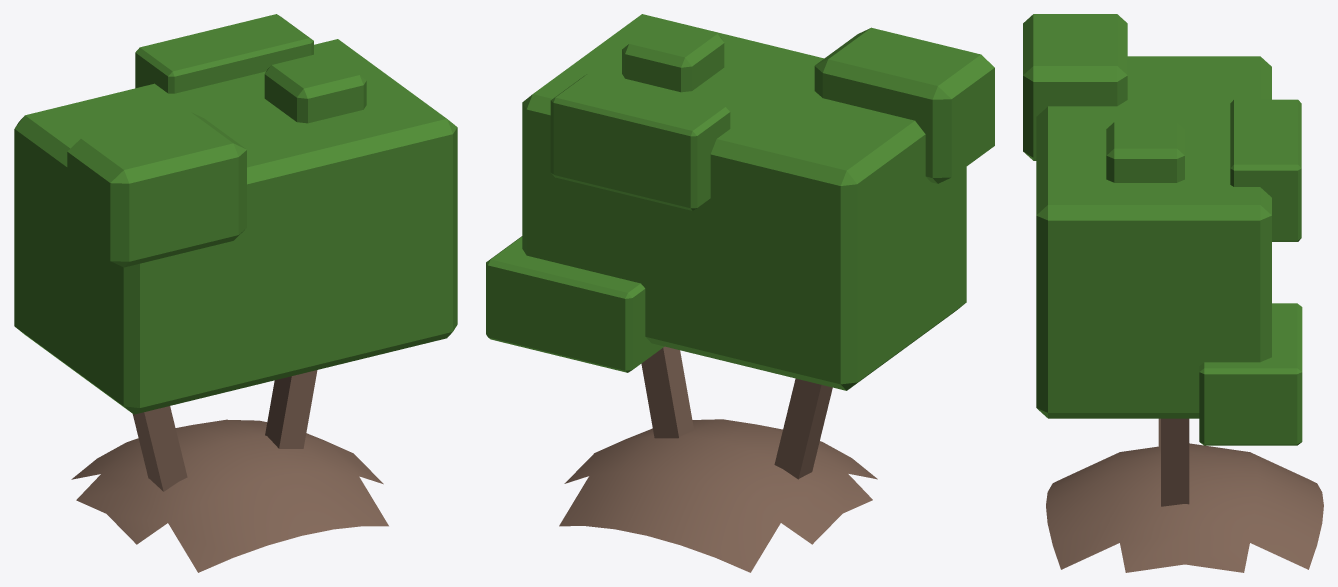
File: Hedge.fbx
The picture shows the model from 3 angles, left to right: view 1: azimuth 30°, elevation 25°; view 2: azimuth 150°, elevation 25°; view 3: azimuth 270°, elevation 25°; orthographic projection. The views are drawn at different scales.
Parts seen in each view (by area): view 1: pCube3, pSphere2, pCube8, pCube5, pCube7, pCube10, pCube9; view 2: pCube3, pSphere2, pCube5, pCube8, pCube6, pCube7, pCube10, pCube9; view 3: pCube3, pSphere2, pCube6, pCube8, pCube5, pCube7, pCube9.
Boxes of the visible parts, x1=… form: pCube3: x1=14, y1=39, x2=457, y2=414; pSphere2: x1=71, y1=419, x2=388, y2=572; pCube8: x1=67, y1=112, x2=246, y2=267; pCube5: x1=135, y1=14, x2=313, y2=93; pCube7: x1=264, y1=51, x2=366, y2=123; pCube10: x1=132, y1=406, x2=187, y2=491; pCube9: x1=265, y1=370, x2=317, y2=448; pCube3: x1=522, y1=14, x2=966, y2=390; pSphere2: x1=559, y1=419, x2=877, y2=572; pCube5: x1=550, y1=73, x2=730, y2=210; pCube8: x1=814, y1=27, x2=994, y2=183; pCube6: x1=486, y1=236, x2=664, y2=372; pCube7: x1=622, y1=20, x2=724, y2=92; pCube10: x1=774, y1=378, x2=832, y2=479; pCube9: x1=641, y1=346, x2=693, y2=438; pCube3: x1=1036, y1=56, x2=1271, y2=418; pSphere2: x1=1046, y1=443, x2=1323, y2=572; pCube6: x1=1199, y1=303, x2=1302, y2=445; pCube8: x1=1023, y1=14, x2=1127, y2=160; pCube5: x1=1230, y1=99, x2=1301, y2=241; pCube7: x1=1106, y1=122, x2=1184, y2=182; pCube9: x1=1161, y1=418, x2=1189, y2=506.
Bounding box in the file's own units: 3.53 × 3.95 × 2.54.
